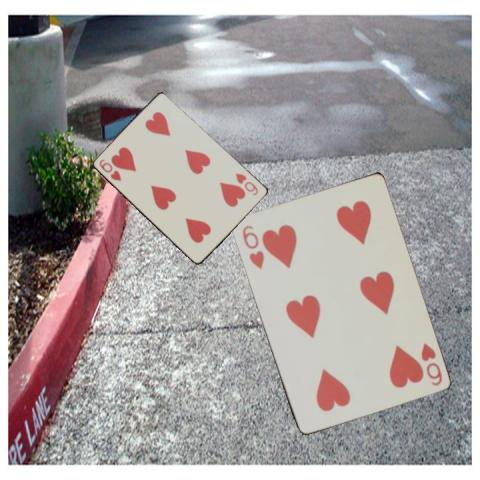6h: (239, 222, 265, 270), (418, 340, 444, 388), (233, 170, 260, 197), (96, 156, 122, 183)
